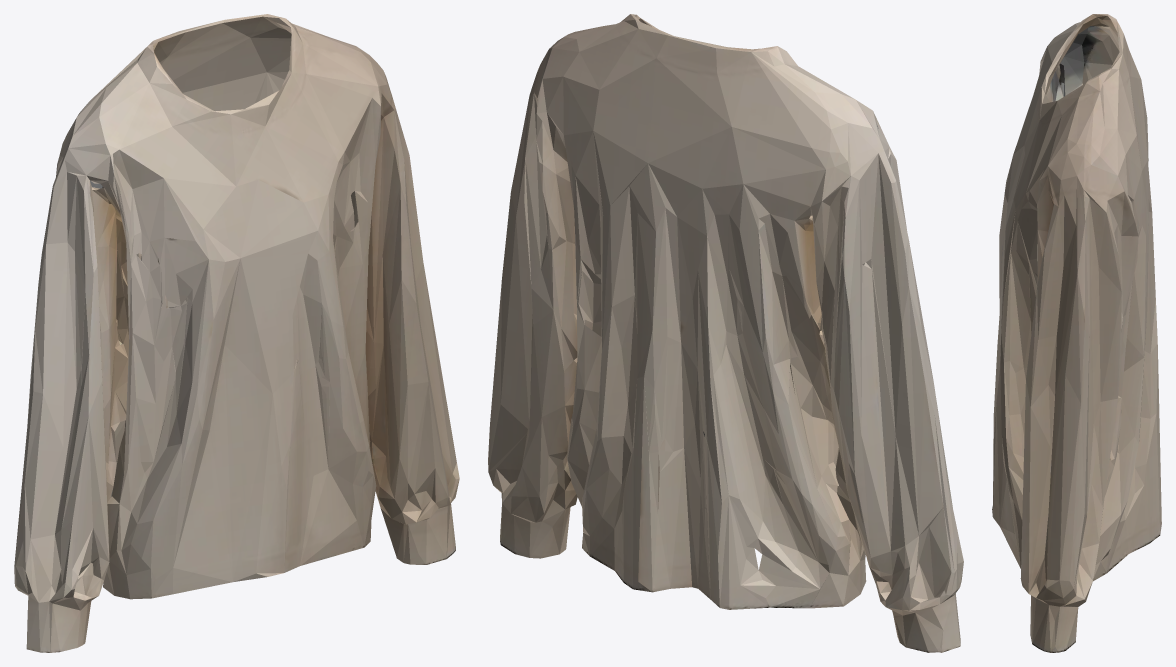
3 views of the same model, side by side, from view 1: azimuth 30°, elevation 25°; view 2: azimuth 150°, elevation 25°; view 3: azimuth 270°, elevation 25° (orthographic). The views are drawn at different scales.
Visible parts, largest first — view 1: geometry_0; view 2: geometry_0; view 3: geometry_0.
Boxes of the visible parts, x1=… form: geometry_0: x1=14, y1=14, x2=459, y2=652; geometry_0: x1=488, y1=14, x2=963, y2=652; geometry_0: x1=992, y1=14, x2=1161, y2=652.
Size of the model in its own units: 0.8373 by 0.9998 by 0.2998.
Materials: 1 (1 with a texture image).
